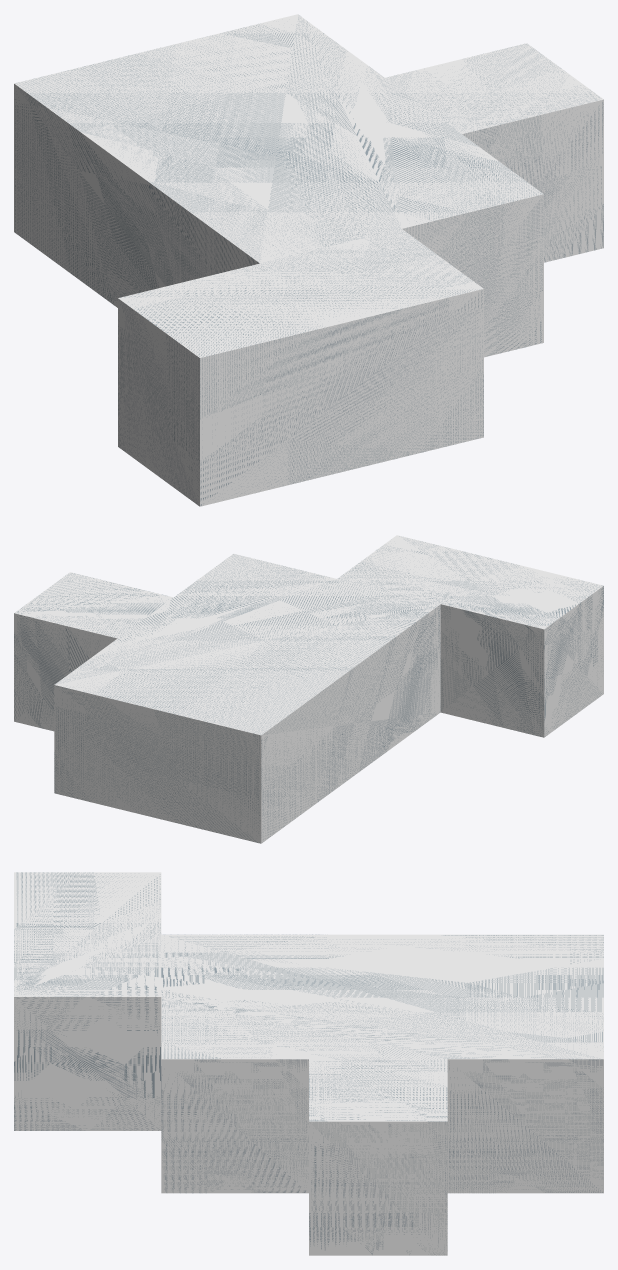
File: KeyFrag8.fbx
3 views of the same model, one above another, from view 1: azimuth 30°, elevation 25°; view 2: azimuth 150°, elevation 25°; view 3: azimuth 270°, elevation 25° (orthographic). The views are drawn at different scales.
Parts seen in each view (by area): view 1: Model; view 2: Model; view 3: Model.
Part boxes in pixels (left/top/right/bottom): Model: left=14, top=14, right=603, bottom=506; Model: left=14, top=535, right=603, bottom=843; Model: left=14, top=872, right=603, bottom=1255.
Bounding box in the file's own units: 100 × 25 × 100.
